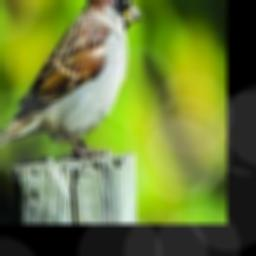Sparrow: (0, 0, 142, 165)
